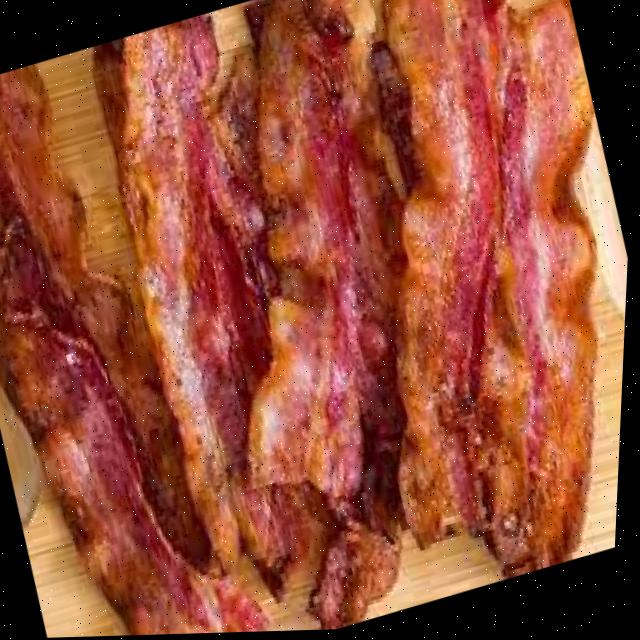Bacon: (0, 73, 271, 636), (109, 20, 334, 572), (386, 0, 600, 578), (252, 0, 366, 502)
